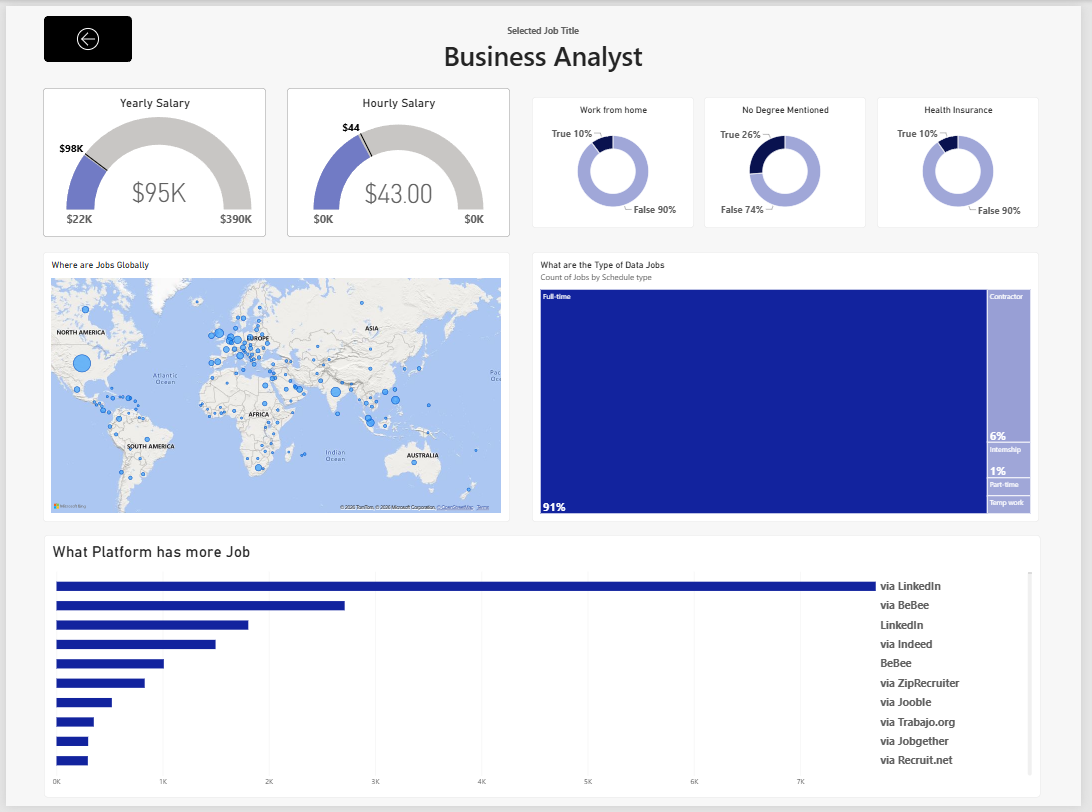

What the dashboard file says about the page in this screenshot:
{"tool":"powerbi","page":{"name":"Drill Through Page","canvas":[2150,1600],"ordinal":1},"visuals":[{"type":"cardVisual","fields":{"Data":["Min(job_postings_flat.job_title_short)1"]},"box":[417.5,20,1312.5,130],"z":0},{"type":"actionButton","box":[76,20,176,92],"z":1000},{"type":"gauge","title":"Yearly Salary","fields":{"MaxValue":["Max(job_postings_flat.salary_year_avg)2"],"MinValue":["Min(job_postings_flat.salary_year_avg)1"],"TargetValue":["Avg(job_postings_flat.salary_year_avg)3"],"Y":["Median(job_postings_flat.salary_year_avg)"]},"box":[74,164,446,298],"z":2000,"group":"g2"},{"type":"donutChart","title":"Health Insurance","fields":{"Category":["job_postings_flat.job_health_insurance"],"Y":["CountNonNull(job_postings_flat.job_work_from_home)"]},"box":[1742,182,324,262],"z":2000},{"type":"gauge","title":"Hourly Salary","fields":{"MaxValue":["Max(job_postings_flat.salary_hour_avg)"],"MinValue":["Min(job_postings_flat.salary_hour_avg)"],"TargetValue":["Avg(job_postings_flat.salary_hour_avg)1"],"Y":["Median(job_postings_flat.salary_hour_avg)"]},"box":[562,164,446,298],"z":3000,"group":"g2"},{"type":"group","id":"g1","title":"Group 1","box":[1052,182,668,262],"z":3000},{"type":"group","id":"g2","title":"Group 2","box":[74,164,934,298],"z":4000},{"type":"donutChart","title":"Work from home","fields":{"Category":["job_postings_flat.job_work_from_home"],"Y":["CountNonNull(job_postings_flat.job_work_from_home)"]},"box":[1052,182,324,262],"z":4000,"group":"g1"},{"type":"map","title":"Where are Jobs Globally","fields":{"Category":["job_postings_flat.job_country"],"Size":["CountNonNull(job_postings_flat.job_title_short)"]},"box":[74,492,934,540],"z":4001},{"type":"treemap","title":"What are the Type of Data Jobs","fields":{"Group":["job_postings_flat.job_schedule_type"],"Values":["CountNonNull(job_postings_flat.job_schedule_type)"]},"box":[1052,492,1014,540],"z":4002},{"type":"barChart","title":"What Platform has more Job","fields":{"Category":["job_postings_flat.job_via"],"Y":["CountNonNull(job_postings_flat.job_title_short)"]},"box":[75,1057.5,1992.5,525],"z":4003},{"type":"donutChart","title":"No Degree Mentioned","fields":{"Category":["job_postings_flat.job_no_degree_mention"],"Y":["CountNonNull(job_postings_flat.job_work_from_home)"]},"box":[1396,182,324,262],"z":5000,"group":"g1"}]}

Visuals, with their boxes in screenshot pixels (x1, y1, x2, y2), scaled from the page's 2150x1600 canvas onto the 1092x812 screenshot:
cardVisual - Min(job_postings_flat.job_title_short)1: rect(212, 10, 879, 76)
actionButton: rect(39, 10, 128, 57)
"Yearly Salary" gauge: rect(38, 83, 264, 234)
"Health Insurance" donutChart: rect(885, 92, 1049, 225)
"Hourly Salary" gauge: rect(285, 83, 512, 234)
"Group 1" group: rect(534, 92, 874, 225)
"Group 2" group: rect(38, 83, 512, 234)
"Work from home" donutChart: rect(534, 92, 699, 225)
"Where are Jobs Globally" map: rect(38, 250, 512, 524)
"What are the Type of Data Jobs" treemap: rect(534, 250, 1049, 524)
"What Platform has more Job" barChart: rect(38, 537, 1050, 803)
"No Degree Mentioned" donutChart: rect(709, 92, 874, 225)
